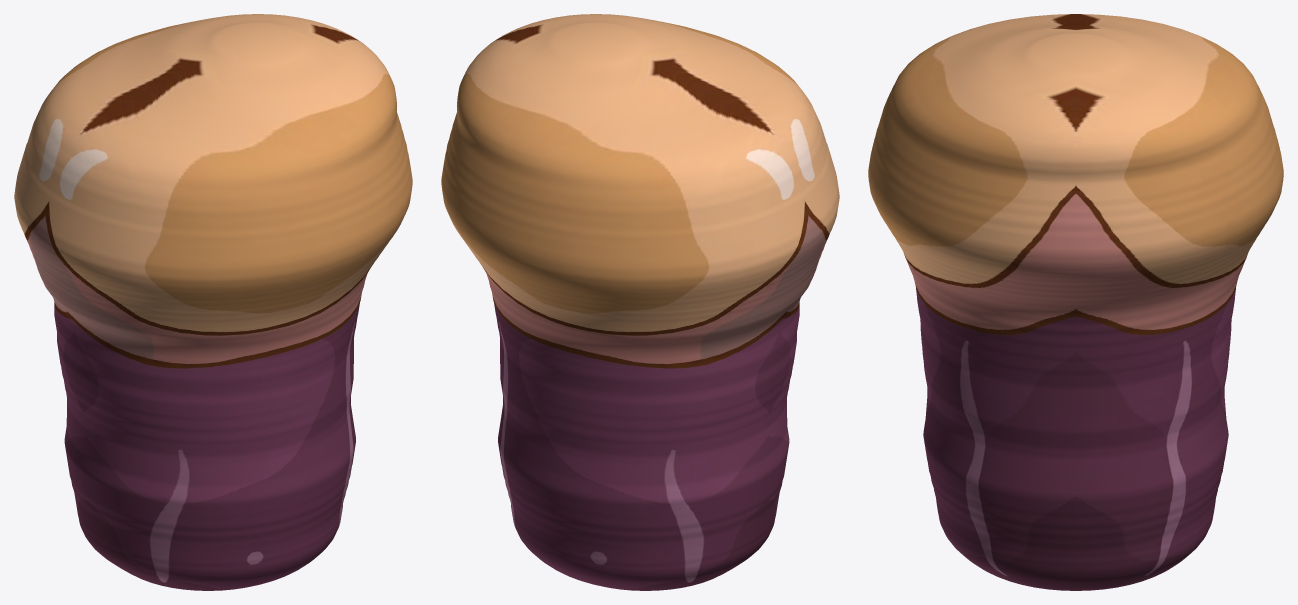
File: ravine_pillar.glb
3 renders of one model, left to right at view 1: azimuth 30°, elevation 25°; view 2: azimuth 150°, elevation 25°; view 3: azimuth 270°, elevation 25°, orthographic. The views are drawn at different scales.
Visible parts, largest first — view 1: ravine_pillar; view 2: ravine_pillar; view 3: ravine_pillar.
Part boxes in pixels (left/top/right/bottom): ravine_pillar: left=14, top=14, right=412, bottom=590; ravine_pillar: left=441, top=14, right=839, bottom=590; ravine_pillar: left=868, top=14, right=1283, bottom=590.
Bounding box in the file's own units: 1 × 1.43 × 0.9953.
Materials: 1 (1 with a texture image).
